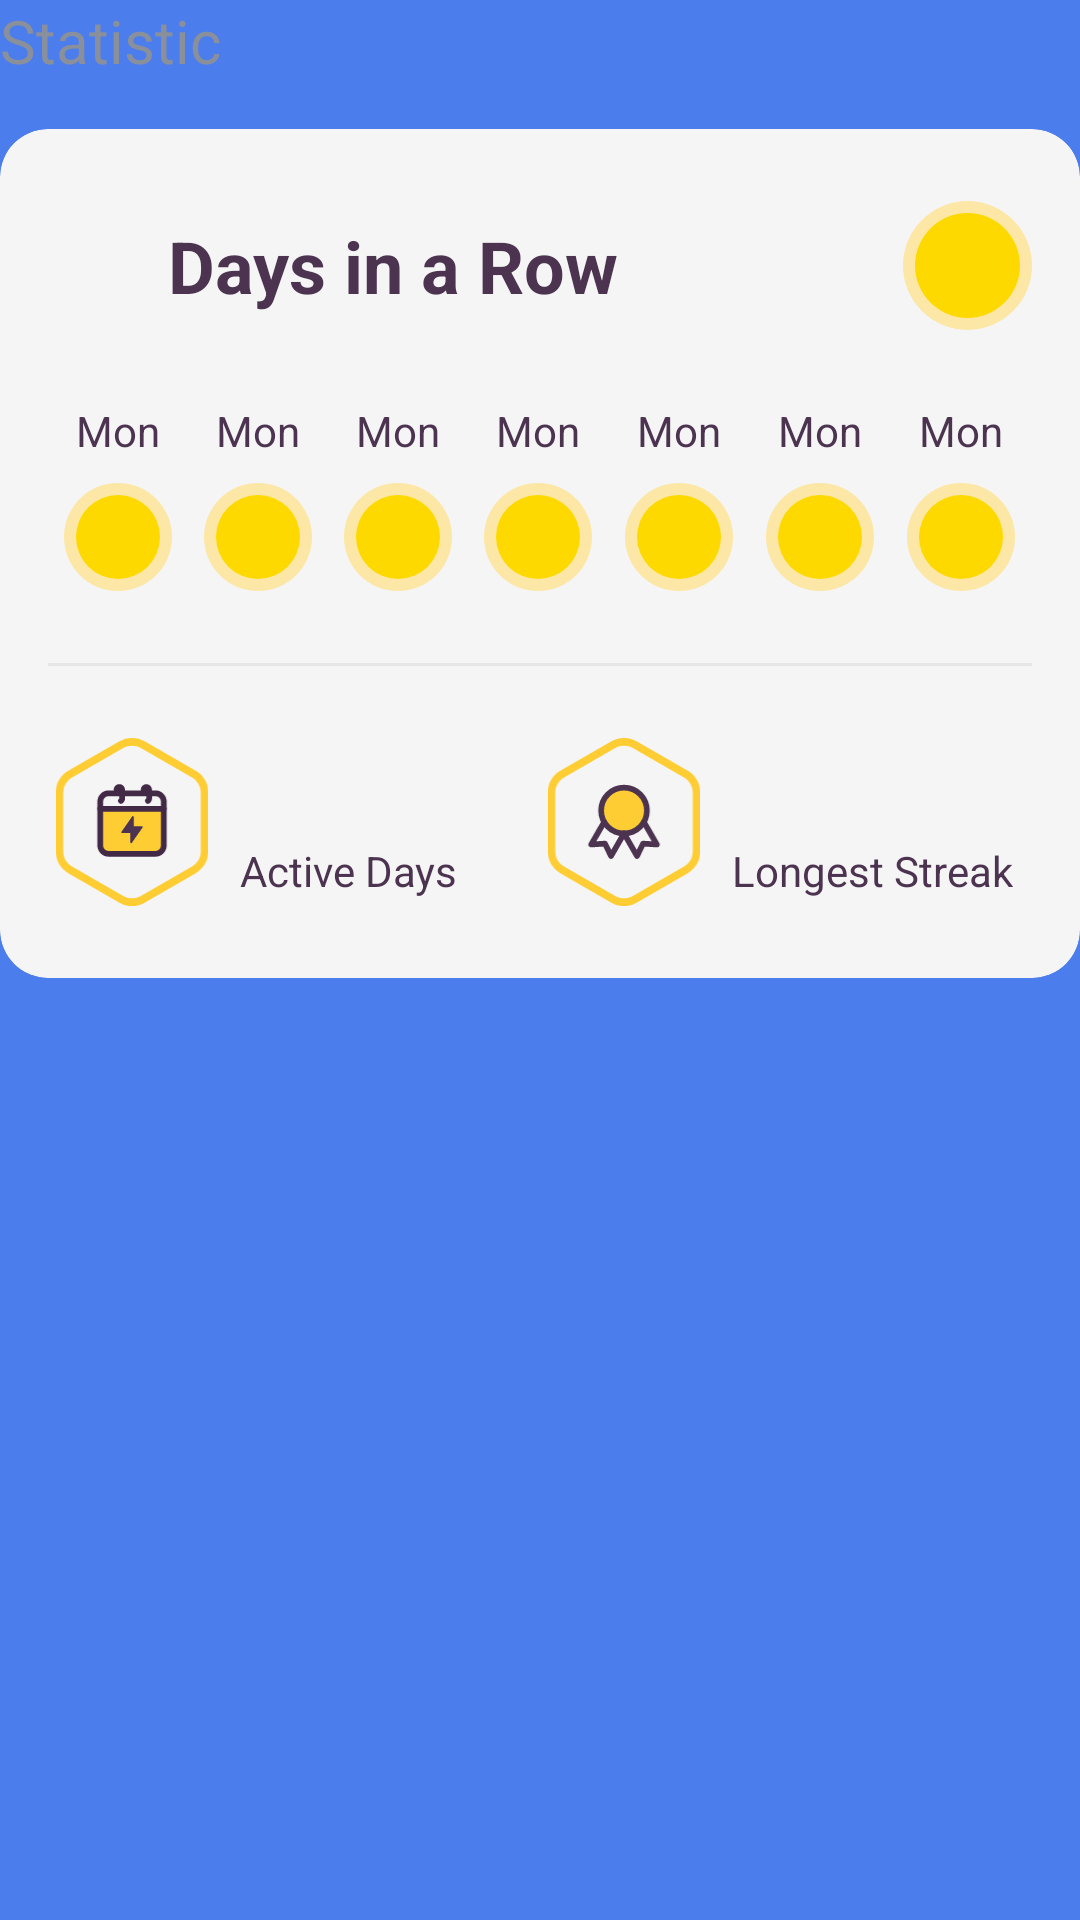

Screen size 1080 × 1920. Icon name, then its center in pixels as (x,y):
calendar: (132,822)
medal: (624,822)
